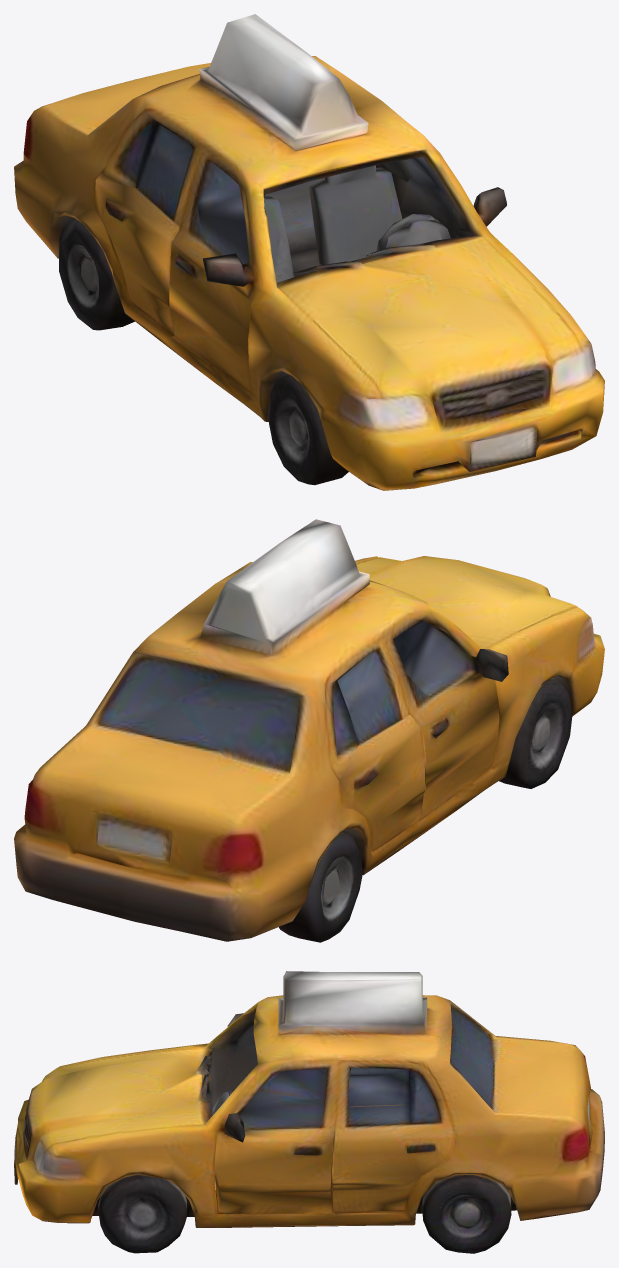
Rendered from taxi.glb.
3 views of the same model, one above another, from view 1: azimuth 30°, elevation 25°; view 2: azimuth 150°, elevation 25°; view 3: azimuth 270°, elevation 25° (orthographic). The views are drawn at different scales.
Visible parts, largest first — view 1: body; view 2: body; view 3: body.
Part boxes in pixels (box(x1,y1,x2,y2)): body: box(14, 14, 604, 490); body: box(14, 519, 604, 942); body: box(14, 971, 604, 1253).
Size of the model in its own units: 1.76 by 1.69 by 3.9.
1 material, 1 textured.
